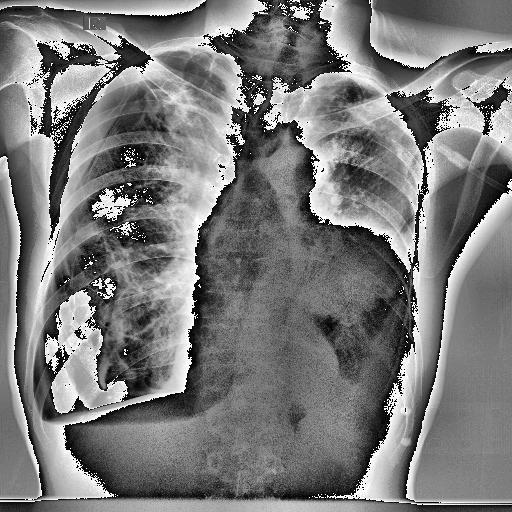0- Aortic enlargement: (270, 146, 330, 188)
1- Atelectasis: (149, 50, 215, 147)
10- Pleural effusion: (311, 218, 439, 417), (299, 209, 413, 423), (338, 297, 416, 405), (42, 422, 177, 452), (25, 408, 60, 446)
11- Pleural thickening: (25, 408, 60, 446)
12- Pneumothorax: (24, 40, 236, 434), (38, 54, 177, 420), (14, 246, 157, 420)
13- Pulmonary fibrosis: (314, 77, 404, 214), (84, 235, 130, 388), (138, 56, 217, 144), (149, 50, 215, 147), (140, 54, 214, 138), (342, 104, 381, 134)
7- Lung Opacity: (89, 216, 181, 386), (316, 84, 424, 226), (314, 77, 404, 214)
8- Nodule-Mass: (296, 218, 406, 326)
